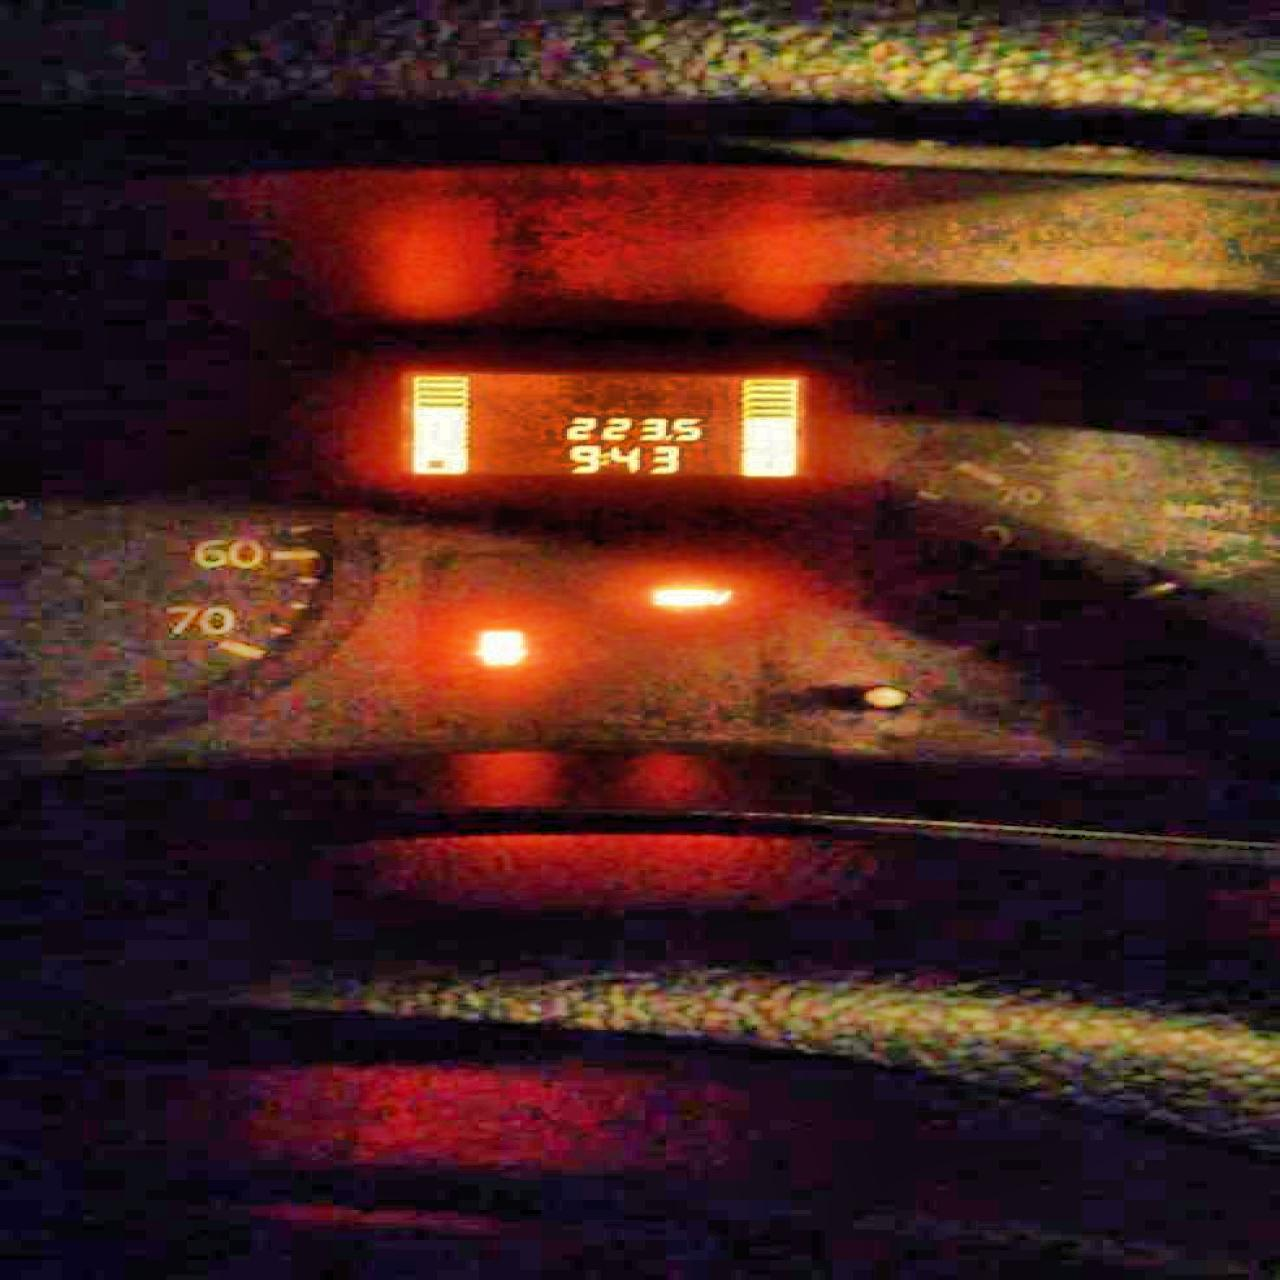-: (663, 433, 672, 440)
2: (561, 415, 595, 440), (599, 415, 629, 440)
3: (648, 444, 679, 475), (638, 416, 663, 440)
4: (608, 445, 642, 474)
5: (668, 416, 702, 440)
9: (565, 443, 595, 472)
X: (599, 450, 606, 465)
odometer: (377, 362, 819, 483)
